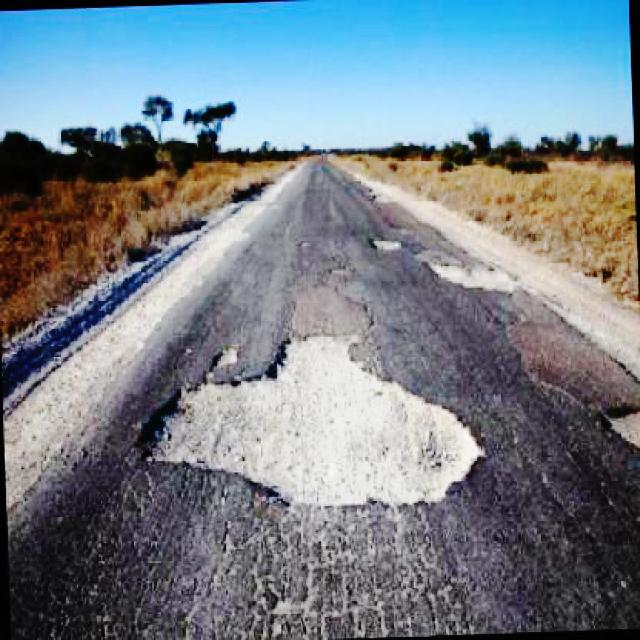pothole: (146, 334, 486, 512), (503, 314, 640, 451), (288, 284, 375, 348), (418, 246, 508, 297)
